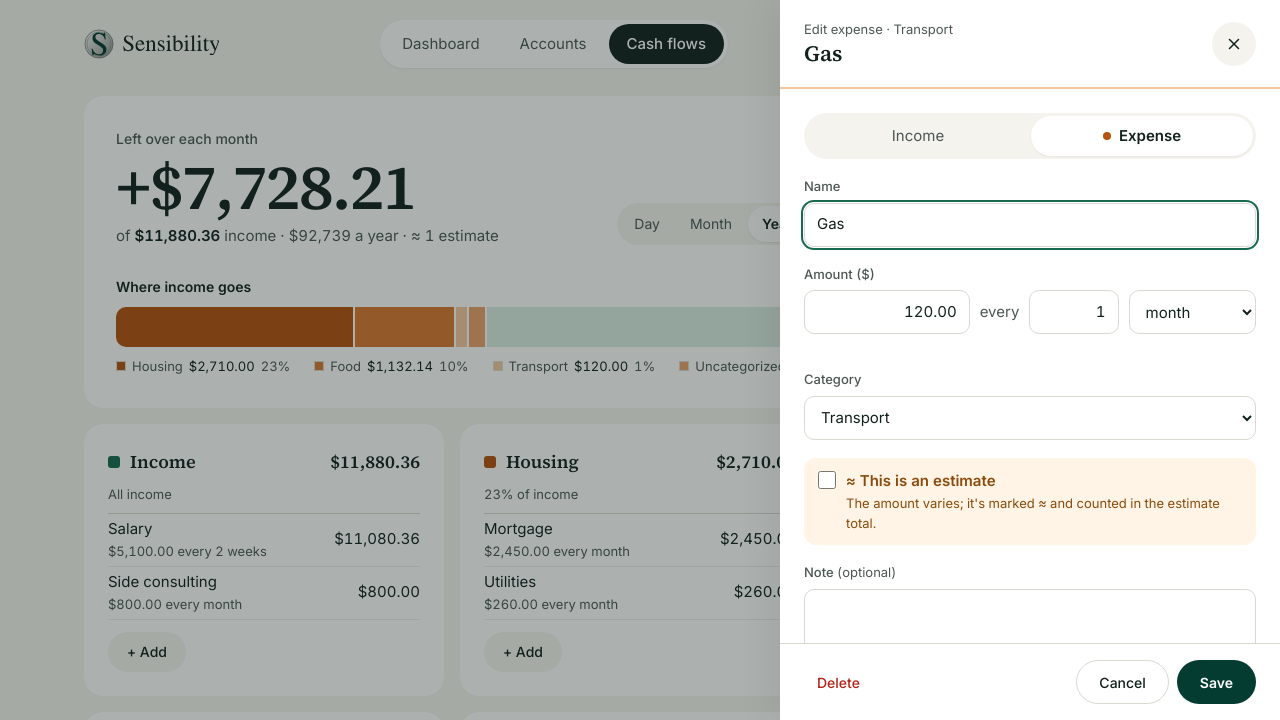
Scenario: the cash flow drawer, editing › deletes and goes back to the page
The width and height of the screenshot is (1280, 720).
Expected: the dialog "Gas" is shown, top-left (780, 0), bottom-right (1279, 719)
Click the button "Delete" at (838, 682), box top-left (804, 660), bottom-right (873, 704)
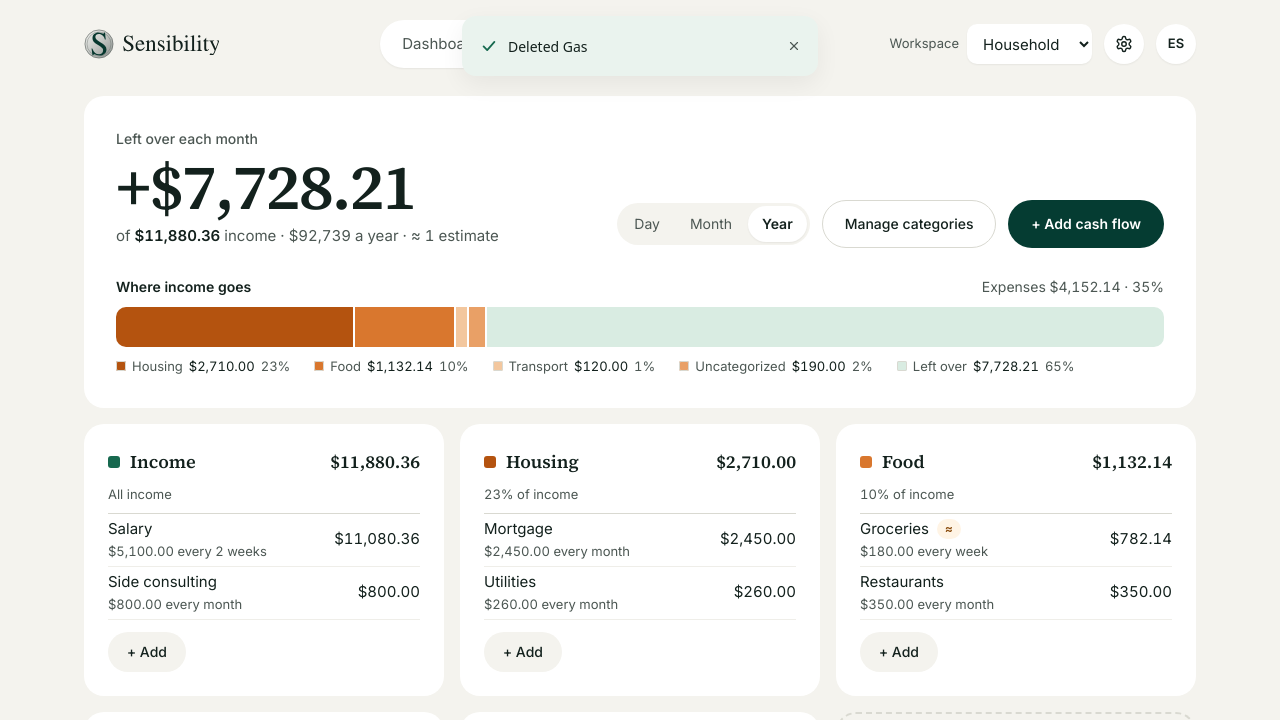
Expected: the text "Deleted Gas" is shown, top-left (508, 36), bottom-right (588, 56)
